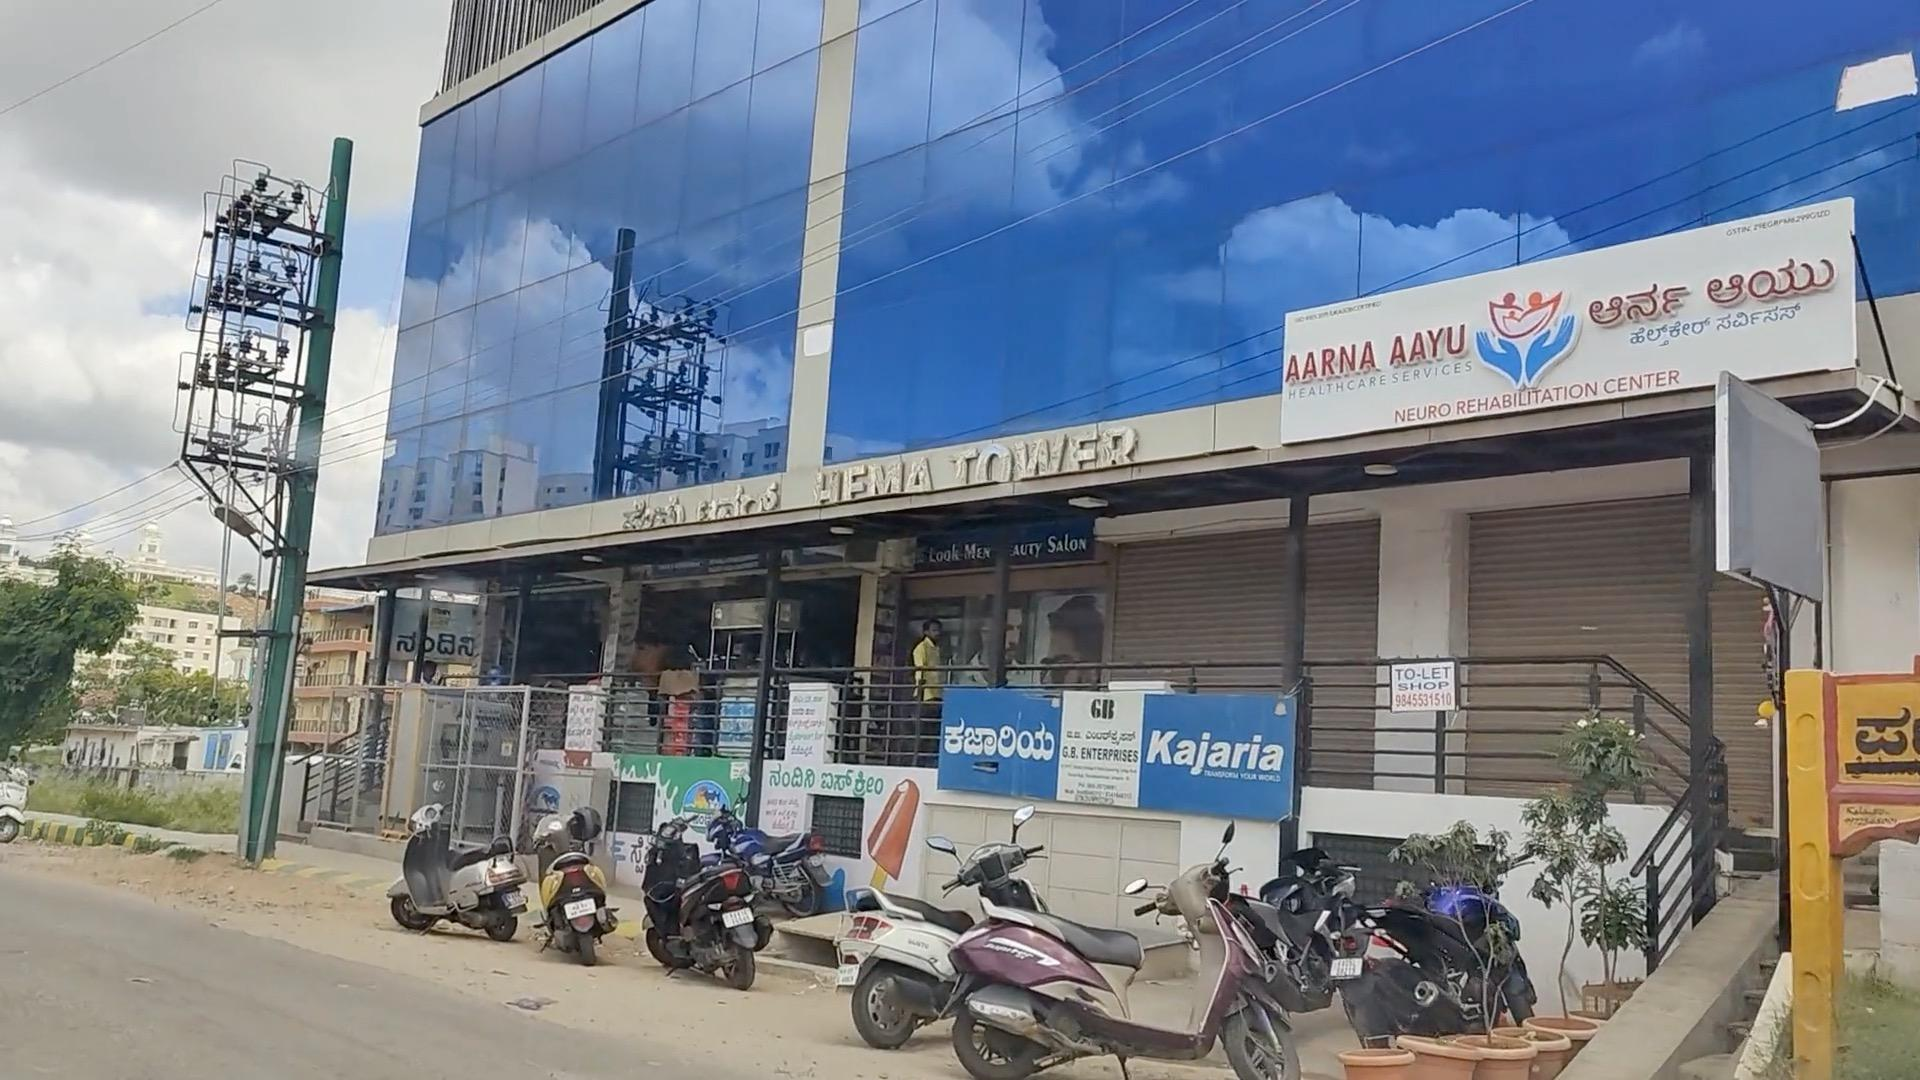LMV: (848, 840, 1265, 1080), (585, 795, 778, 1063), (497, 778, 647, 988), (388, 800, 505, 943)
